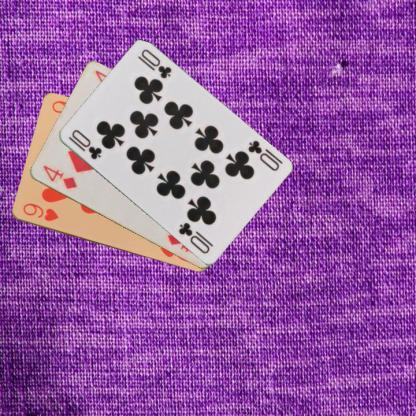10c: (245, 138, 280, 172), (69, 127, 103, 161)
4d: (40, 162, 78, 191)
9h: (20, 201, 60, 223)
